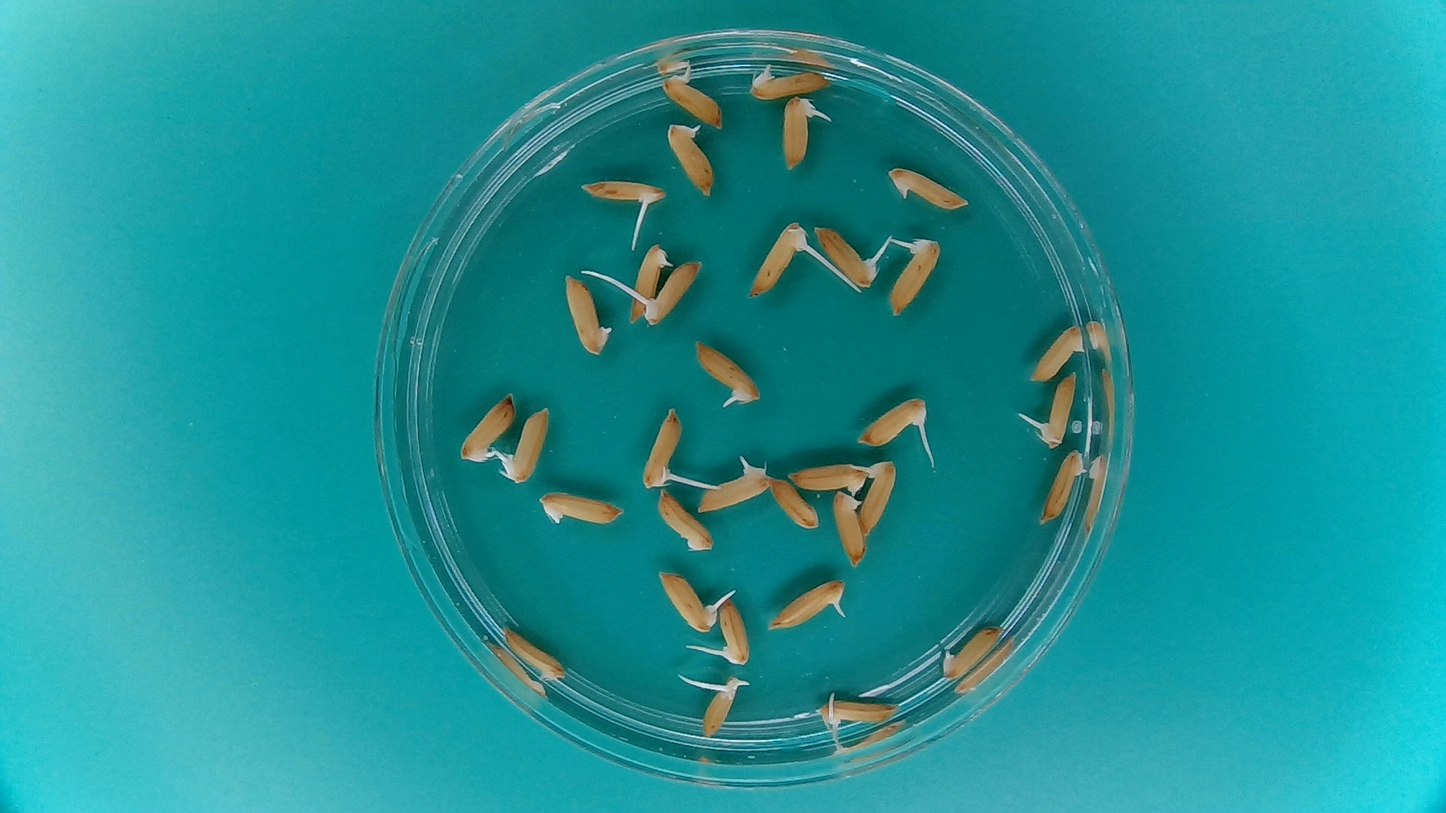no: (562, 268, 616, 358), (883, 163, 972, 212), (655, 486, 716, 554), (498, 625, 569, 683), (1036, 446, 1087, 525), (536, 486, 625, 529), (940, 622, 1004, 681), (1030, 321, 1088, 382), (830, 488, 868, 570), (769, 473, 819, 532), (785, 463, 871, 495)
yes: (690, 335, 763, 405), (813, 221, 880, 290), (746, 222, 806, 298), (694, 454, 771, 513), (764, 580, 845, 633), (854, 397, 931, 450), (655, 570, 718, 634), (642, 257, 700, 325), (505, 408, 554, 486), (460, 391, 512, 464), (626, 241, 671, 325), (665, 121, 715, 195), (638, 410, 684, 490), (658, 74, 725, 128), (890, 239, 936, 316), (746, 63, 834, 102), (857, 455, 896, 537), (819, 692, 903, 730), (1037, 370, 1077, 445), (700, 671, 743, 739), (714, 593, 752, 668), (581, 177, 670, 209), (778, 93, 816, 166)
